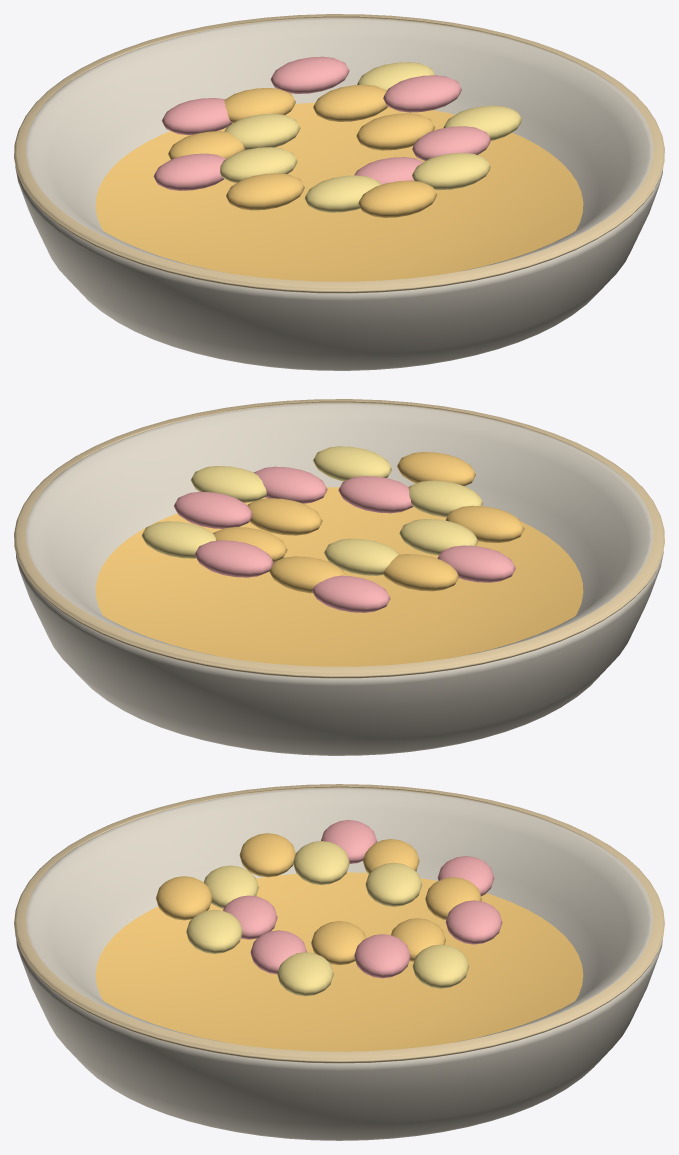
The model's file is tropical-bowl-table.glb.
3 views of the same model, one above another, from view 1: azimuth 30°, elevation 25°; view 2: azimuth 150°, elevation 25°; view 3: azimuth 270°, elevation 25° (orthographic).
Visible parts, largest first — view 1: Hand-thrown shallow bowl, Sauce and food bed, Fine bowl rim, Fresh tropical topping.008, Fresh tropical topping.012, Fresh tropical topping.015, Fresh tropical topping.011, Fresh tropical topping.010, Fresh tropical topping, Fresh tropical topping.003, Fresh tropical topping.017, Fresh tropical topping.014 (+9 smaller); view 2: Hand-thrown shallow bowl, Sauce and food bed, Fine bowl rim, Fresh tropical topping.011, Fresh tropical topping.008, Fresh tropical topping.014, Fresh tropical topping, Fresh tropical topping.002, Fresh tropical topping.009, Fresh tropical topping.017, Fresh tropical topping.001, Fresh tropical topping.010 (+9 smaller); view 3: Hand-thrown shallow bowl, Sauce and food bed, Fine bowl rim, Fresh tropical topping.004, Fresh tropical topping.010, Fresh tropical topping.011, Fresh tropical topping.016, Fresh tropical topping.001, Fresh tropical topping.008, Fresh tropical topping.012, Fresh tropical topping.013, Fresh tropical topping.015 (+9 smaller).
Part boxes in pixels (left/top/right/bottom): Hand-thrown shallow bowl: left=15, top=18, right=663, bottom=370; Sauce and food bed: left=95, top=102, right=583, bottom=281; Fine bowl rim: left=14, top=14, right=664, bottom=293; Fresh tropical topping.008: left=383, top=75, right=461, bottom=112; Fresh tropical topping.012: left=226, top=173, right=304, bottom=210; Fresh tropical topping.015: left=358, top=180, right=436, bottom=217; Fresh tropical topping.011: left=270, top=56, right=349, bottom=93; Fresh tropical topping.010: left=412, top=153, right=490, bottom=189; Fresh tropical topping: left=356, top=113, right=435, bottom=150; Fresh tropical topping.003: left=313, top=84, right=387, bottom=121; Fresh tropical topping.017: left=153, top=153, right=225, bottom=190; Fresh tropical topping.014: left=162, top=98, right=231, bottom=135; Hand-thrown shallow bowl: left=15, top=403, right=663, bottom=755; Sauce and food bed: left=95, top=487, right=583, bottom=666; Fine bowl rim: left=14, top=399, right=664, bottom=678; Fresh tropical topping.011: left=194, top=540, right=273, bottom=577; Fresh tropical topping.008: left=174, top=491, right=252, bottom=528; Fresh tropical topping.014: left=312, top=575, right=390, bottom=612; Fresh tropical topping: left=247, top=498, right=322, bottom=535; Fresh tropical topping.002: left=338, top=476, right=413, bottom=513; Fresh tropical topping.009: left=383, top=554, right=458, bottom=591; Fresh tropical topping.017: left=437, top=545, right=515, bottom=582; Fresh tropical topping.001: left=324, top=538, right=399, bottom=575; Fresh tropical topping.010: left=313, top=446, right=391, bottom=481; Hand-thrown shallow bowl: left=16, top=788, right=662, bottom=1140; Sauce and food bed: left=95, top=872, right=583, bottom=1051; Fine bowl rim: left=14, top=784, right=664, bottom=1063; Fresh tropical topping.004: left=293, top=841, right=349, bottom=885; Fresh tropical topping.010: left=186, top=909, right=242, bottom=953; Fresh tropical topping.011: left=445, top=900, right=502, bottom=944; Fresh tropical topping.016: left=412, top=944, right=469, bottom=988; Fresh tropical topping.001: left=365, top=862, right=421, bottom=906; Fresh tropical topping.008: left=354, top=934, right=410, bottom=978; Fresh tropical topping.012: left=239, top=833, right=295, bottom=877; Fresh tropical topping.013: left=277, top=952, right=333, bottom=996; Fresh tropical topping.015: left=156, top=876, right=212, bottom=920.
Bounding box in the file's own units: 1.1 × 0.2874 × 1.1.
